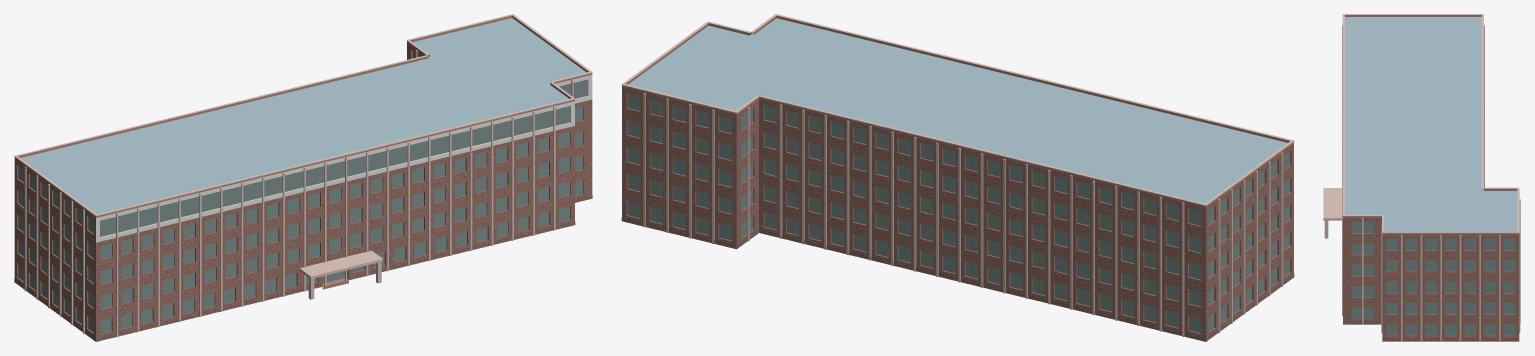
3 renders of one model, left to right at view 1: azimuth 30°, elevation 25°; view 2: azimuth 150°, elevation 25°; view 3: azimuth 270°, elevation 25°, orthographic. The views are drawn at different scales.
Parts seen in each view (by area): view 1: b115951768__roof, b115951768__wall, b115951768__glass, b115951768__trim, b115951768__upperWall, b115951768__parapet, b115951768__frame, b115951768__base; view 2: b115951768__wall, b115951768__roof, b115951768__glass, b115951768__trim, b115951768__parapet, b115951768__frame, b115951768__base; view 3: b115951768__roof, b115951768__wall, b115951768__glass, b115951768__trim, b115951768__parapet, b115951768__base, b115951768__frame.
Part boxes in pixels (bbox=[...]): b115951768__roof: bbox=[20, 18, 586, 213]; b115951768__wall: bbox=[14, 43, 592, 341]; b115951768__glass: bbox=[18, 51, 587, 333]; b115951768__trim: bbox=[14, 14, 592, 337]; b115951768__upperWall: bbox=[96, 75, 592, 242]; b115951768__parapet: bbox=[14, 15, 592, 217]; b115951768__frame: bbox=[33, 56, 581, 332]; b115951768__base: bbox=[14, 195, 592, 341]; b115951768__wall: bbox=[622, 87, 1293, 341]; b115951768__roof: bbox=[628, 18, 1287, 203]; b115951768__glass: bbox=[627, 93, 1289, 333]; b115951768__trim: bbox=[621, 14, 1294, 336]; b115951768__parapet: bbox=[622, 15, 1293, 207]; b115951768__frame: bbox=[634, 95, 1286, 331]; b115951768__base: bbox=[621, 217, 1294, 341]; b115951768__roof: bbox=[1345, 17, 1517, 231]; b115951768__wall: bbox=[1343, 217, 1519, 338]; b115951768__glass: bbox=[1351, 221, 1515, 335]; b115951768__trim: bbox=[1323, 14, 1520, 341]; b115951768__parapet: bbox=[1343, 15, 1519, 234]; b115951768__base: bbox=[1343, 321, 1519, 341]; b115951768__frame: bbox=[1392, 238, 1509, 335].
Bounding box in the file's own units: 79.28 × 18.75 × 30.09.
Materials: 10 (2 with a texture image).
